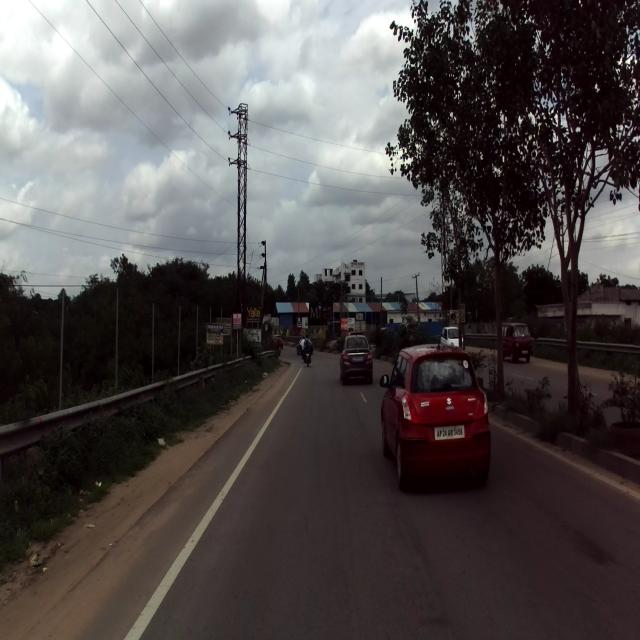Car_Maruti-Suzuki: (379, 337, 491, 489), (339, 332, 374, 386)
